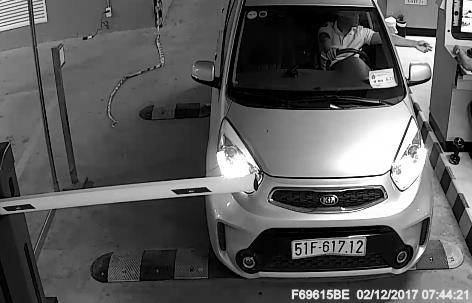License-plate: (291, 231, 373, 266)
